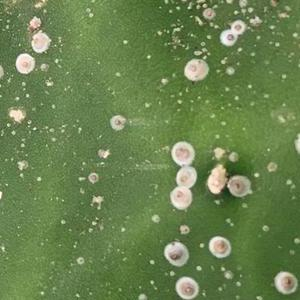Femea: (171, 186, 196, 205), (170, 142, 189, 165), (175, 167, 196, 186), (227, 178, 250, 195), (183, 60, 204, 77), (170, 242, 184, 266), (278, 274, 294, 291), (179, 279, 194, 295), (15, 57, 32, 71), (210, 239, 228, 252), (222, 30, 235, 44), (111, 117, 123, 129), (230, 21, 241, 32), (87, 171, 96, 183), (203, 10, 214, 19)
Linfa: (89, 195, 105, 210), (43, 124, 57, 141), (220, 268, 234, 282), (157, 76, 172, 88), (59, 120, 69, 135), (113, 69, 124, 78), (48, 101, 58, 110), (224, 217, 234, 226), (219, 56, 229, 64), (75, 126, 83, 135), (168, 269, 175, 279), (289, 31, 298, 38), (223, 85, 231, 92), (245, 5, 252, 13), (145, 258, 153, 265), (193, 265, 202, 271), (202, 33, 212, 38), (267, 39, 274, 46), (281, 73, 289, 79), (238, 8, 246, 14), (232, 95, 239, 101), (252, 171, 259, 177), (199, 54, 207, 59), (273, 42, 280, 47), (247, 83, 253, 88), (198, 242, 203, 248), (232, 10, 237, 15)
Macho: (192, 12, 203, 29), (74, 173, 87, 182)
